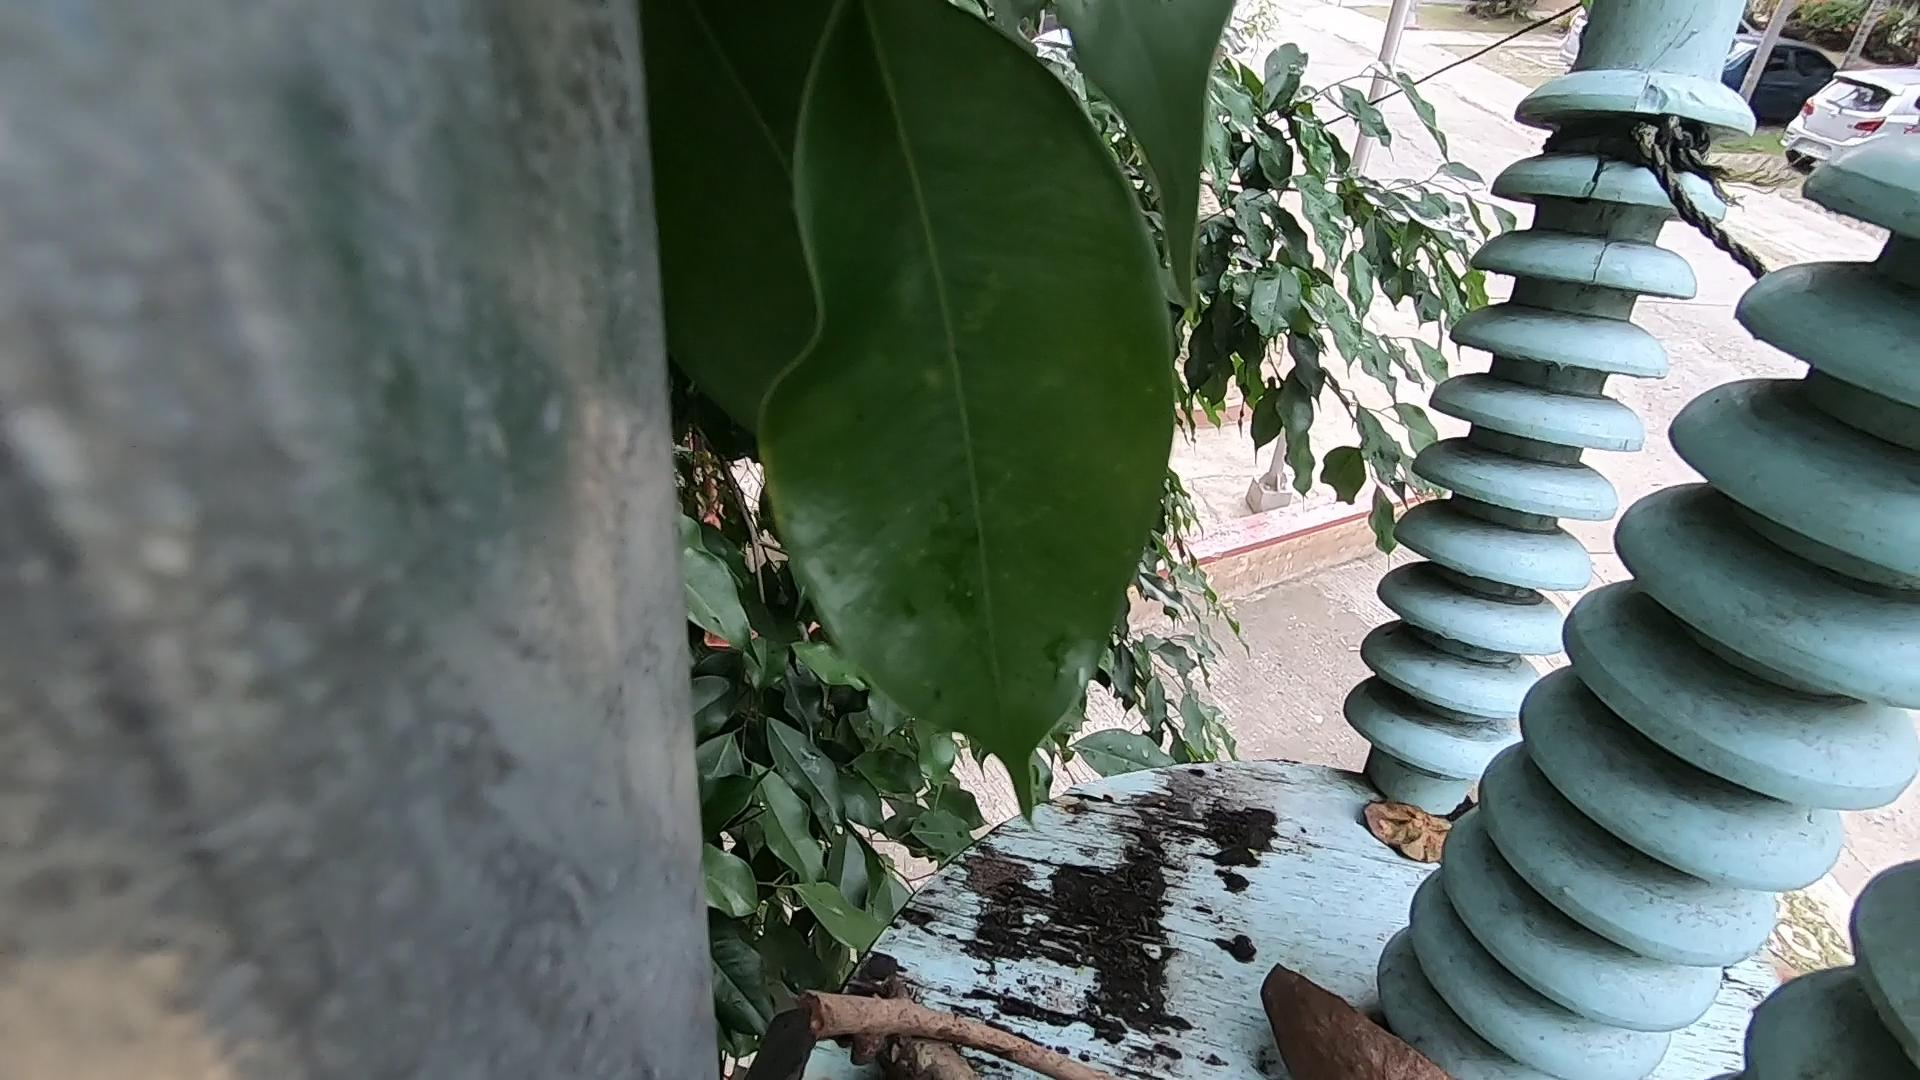branch with leaves: (839, 967, 961, 1080)
leaf: (1353, 760, 1505, 873)
mahogany fruit: (1191, 971, 1451, 1080)
tree branch: (814, 978, 1102, 1059)
